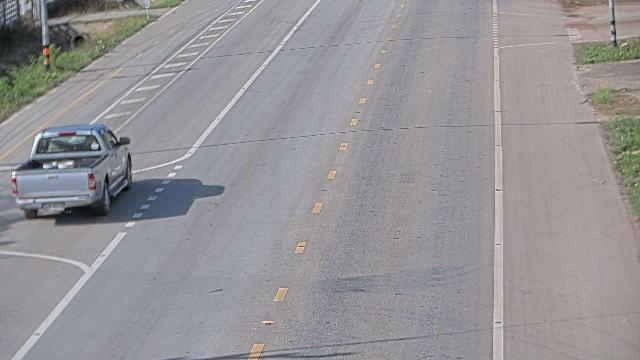pickup-truck: (10, 123, 133, 219)
